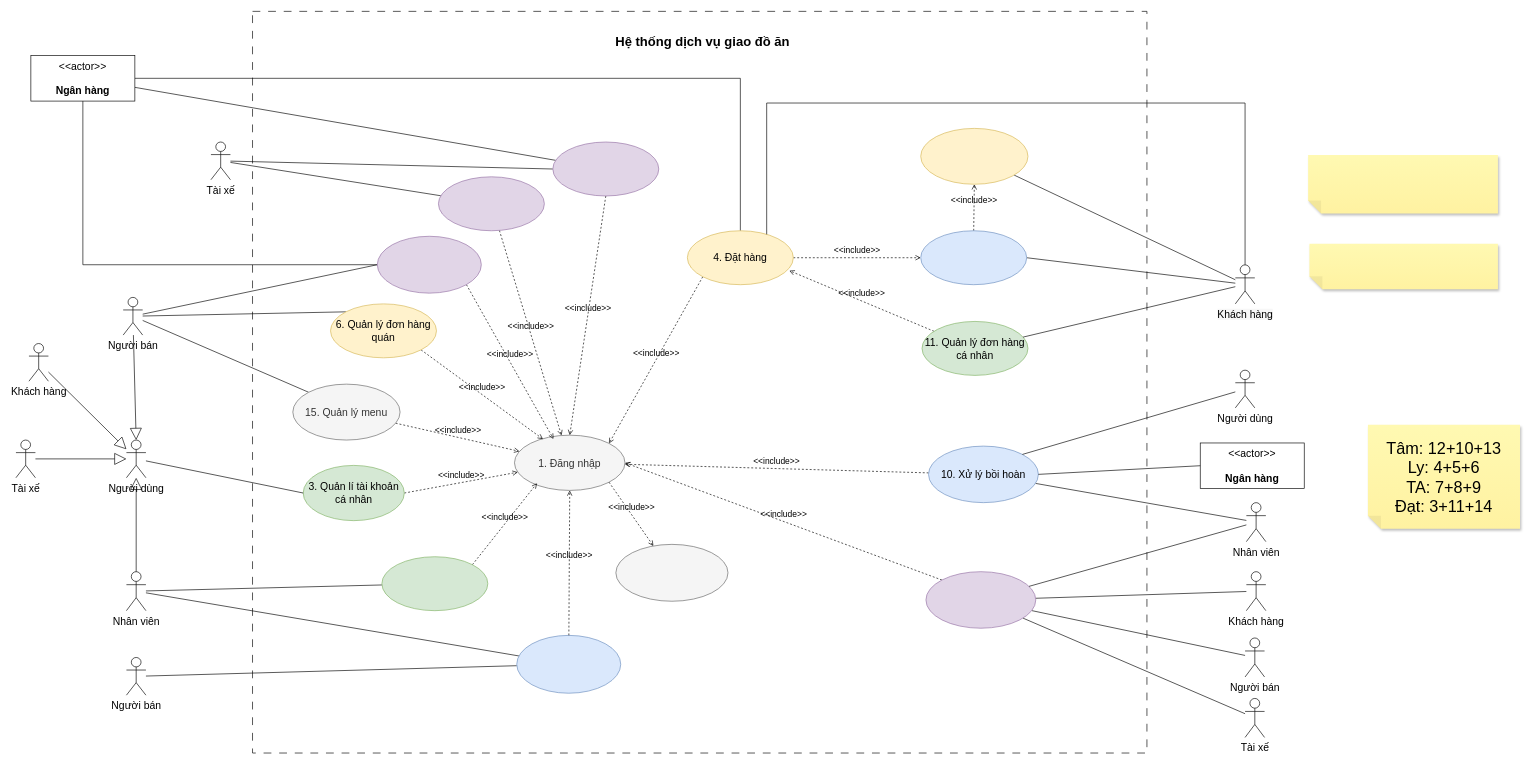
Some shapes in this 1535 by 766 pixel diagram are drawn without their labels. The centre of each missing label's shape, as x and y in pixels:
12. Quản lý giỏ hàng: the point at 973,257
13. Quản lý chương trình khuyến mãi: the point at 568,664
14. Quản lý tài khoản người dùng: the point at 434,583
16. Giao dịch: the point at 605,168
18 gồm thống kê kết quả kinh doanh, rút tiền: the point at 1403,185
2. Đăng kí: the point at 671,572
5. Tìm kiếm: the point at 974,156
7. Quản lý giao đơn: the point at 491,203
8. Liên hệ: the point at 980,599
9. Quản lí tài chính quán: the point at 429,264
Trong đánh giá dịch vụ có đánh giá tài xế và đánh giá quán: the point at 1404,267
